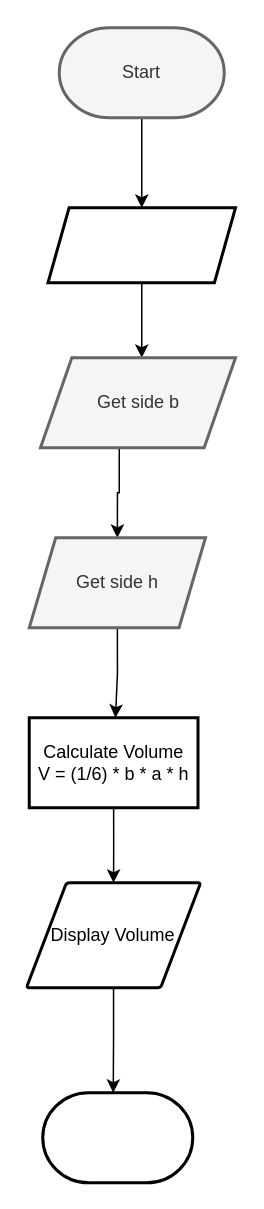
Some shapes in this 264 by 1209 pixel diagram are drawn without their labels. The shapes that lost their labels are listed below. From the top down, each one's centre as x and y in pixels, then its label:
At point 141,245: "Get side a".
At point 117,1137: "End".
